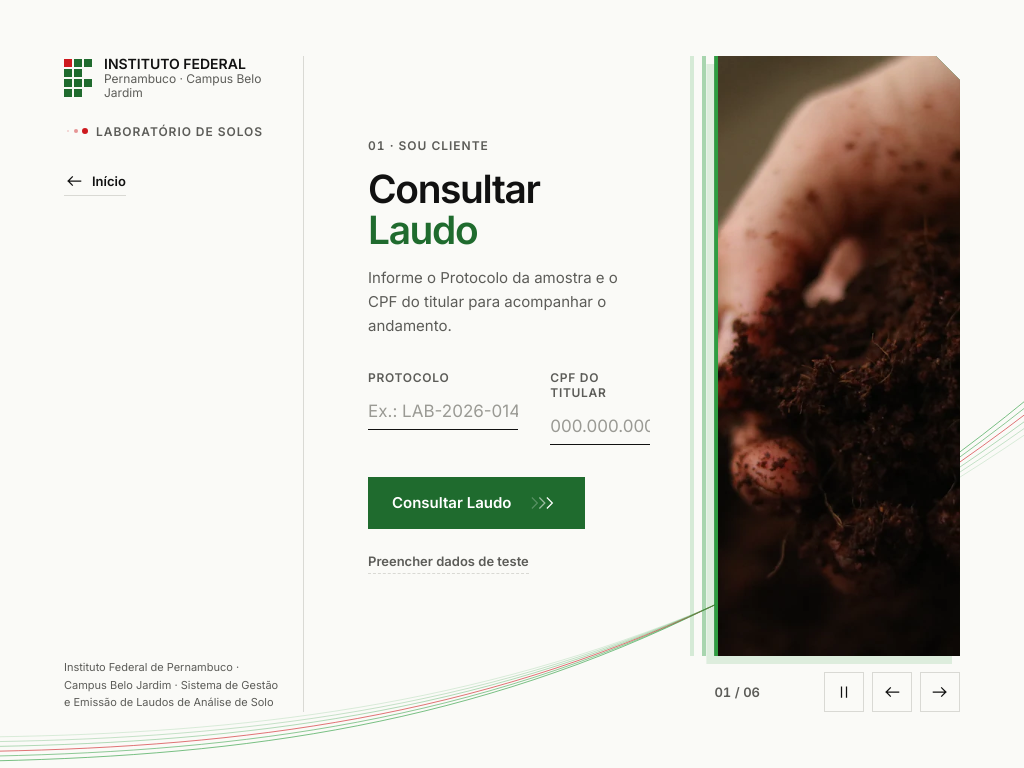
Scenario: consulta do cliente › mostra mensagem neutra quando protocolo e CPF não conferem
Type "20101.2306" into the field labelled "Protocolo" at (443,412), box [368,393,518,430]
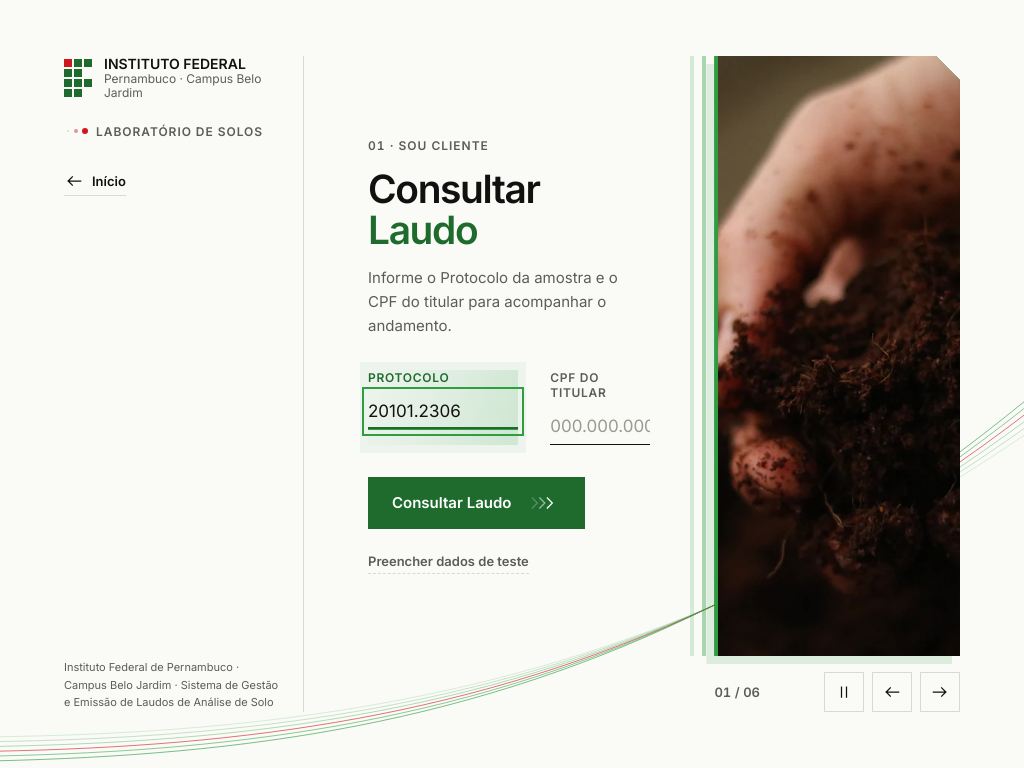
Type "52998224725" into the field labelled "CPF do titular" at (600,426), box [550,408,650,445]
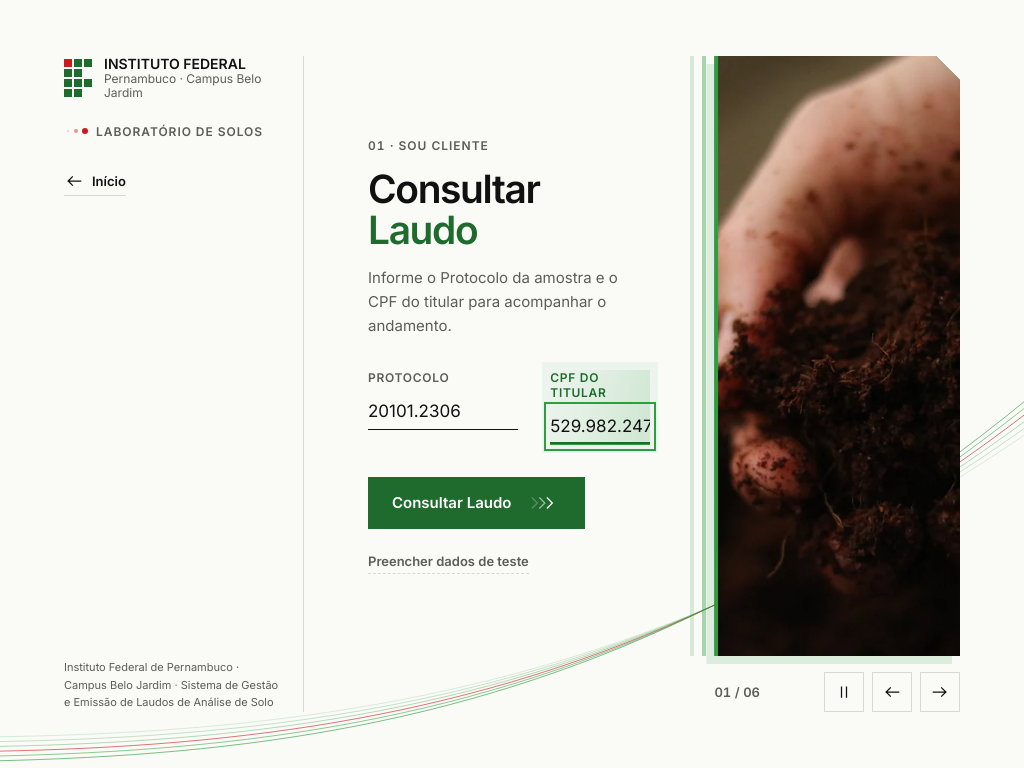
Click the button "Consultar Laudo" at (477,503), box [368,477,585,529]
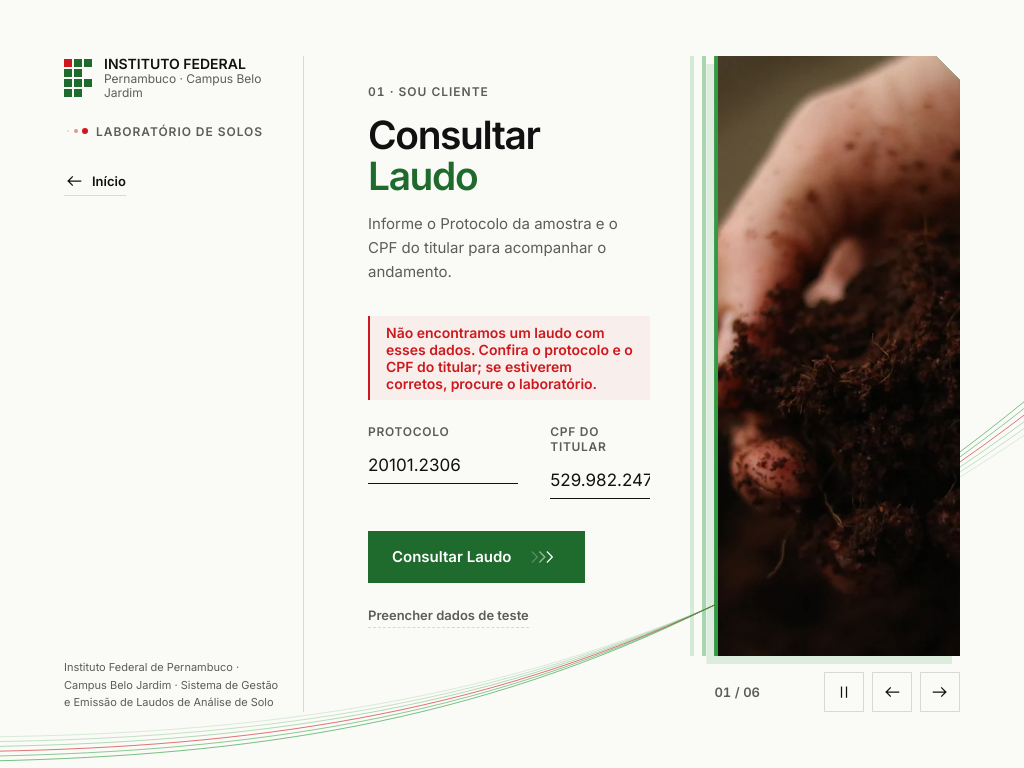
Check: the message shows "Não encontramos um laudo", box [386,324,633,392]
